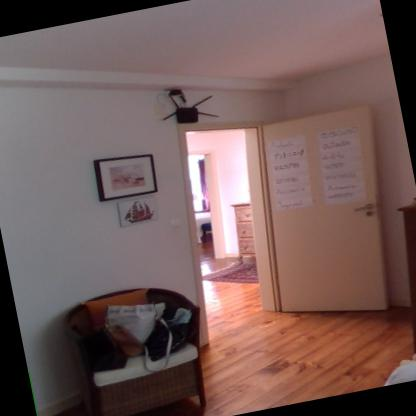open: (160, 91, 409, 350)
